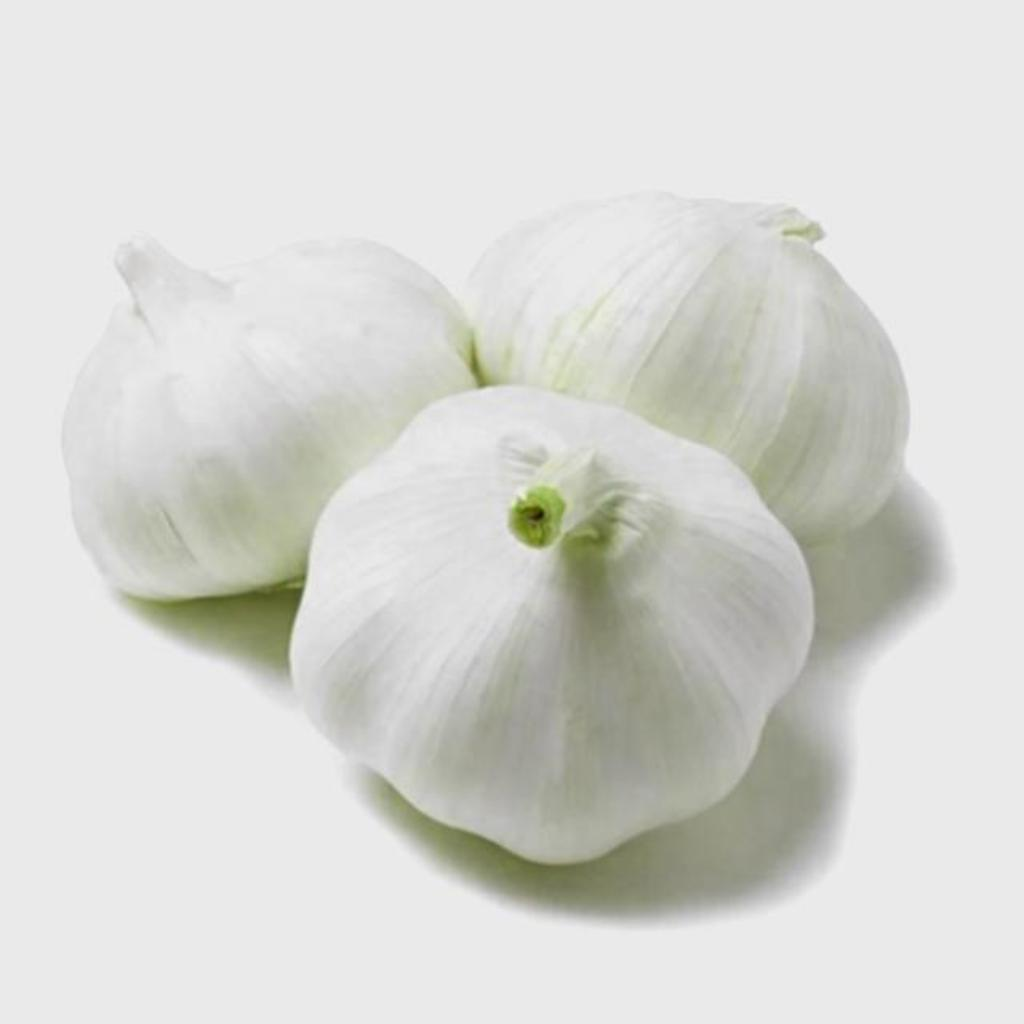garlic: (292, 386, 814, 863), (462, 194, 908, 539), (62, 236, 476, 600)
